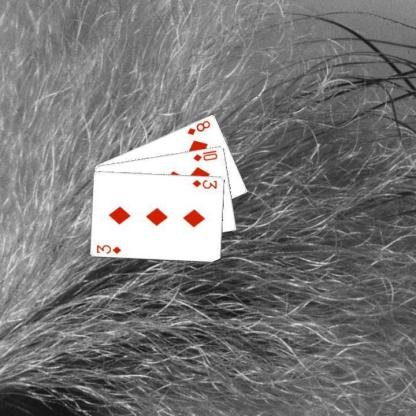10D: (191, 148, 219, 162)
3D: (94, 242, 123, 255), (190, 177, 218, 190)
8D: (185, 118, 211, 136)
